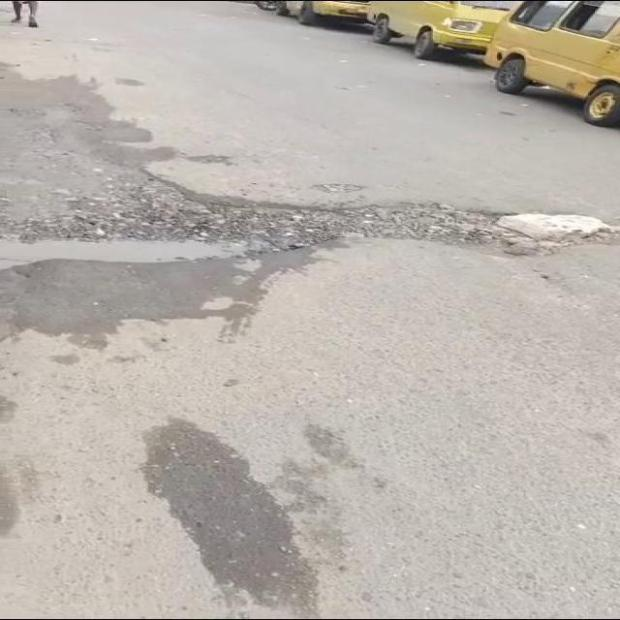lubang: (0, 169, 614, 267)
